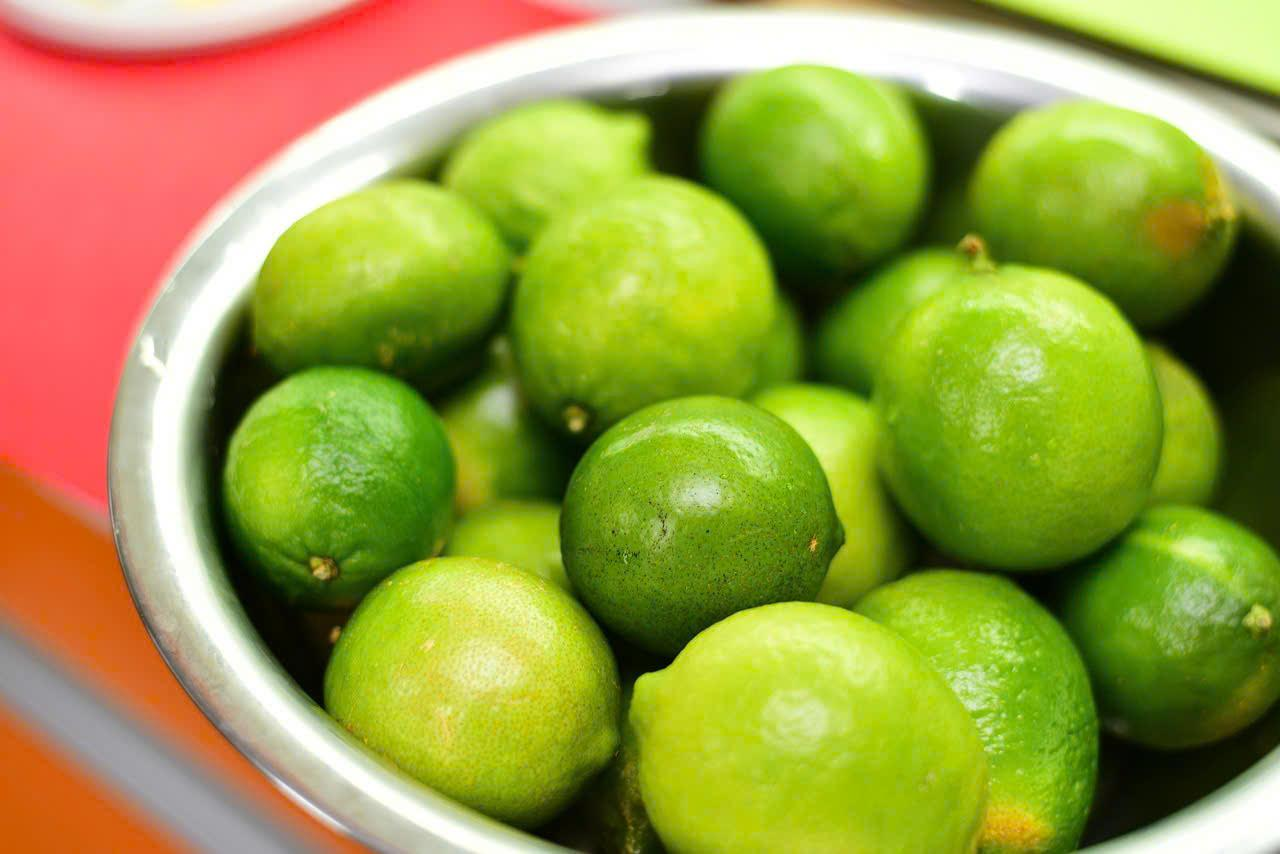lime: (750, 74, 1208, 300), (926, 248, 1204, 565), (928, 586, 1276, 826), (350, 524, 630, 819), (540, 398, 868, 622), (624, 632, 972, 841), (530, 164, 775, 402), (242, 342, 447, 598), (280, 172, 497, 366)
